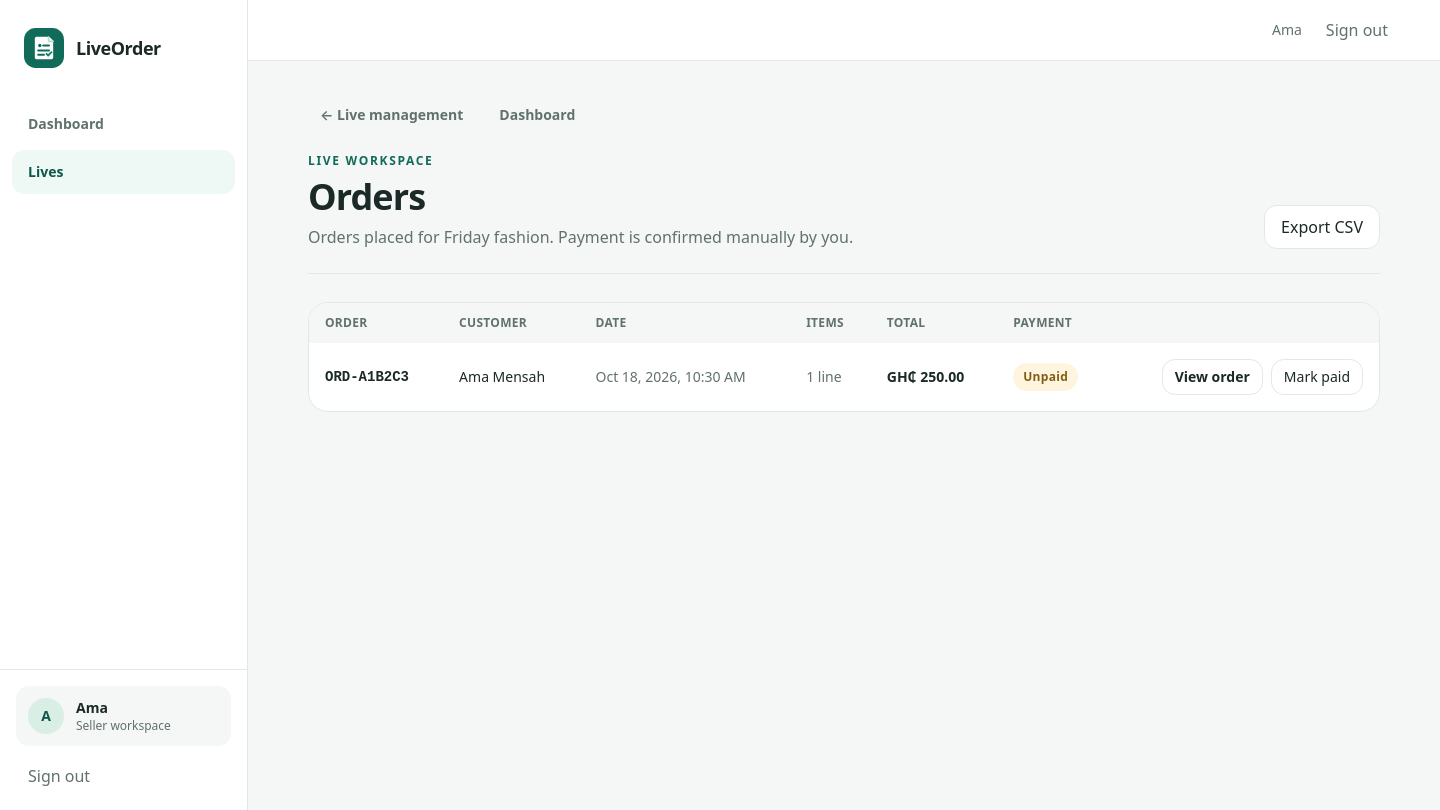
Test: seller order management › shows export failure feedback
Click the button "Export CSV" at (1322, 227), box [1264,205,1380,249]
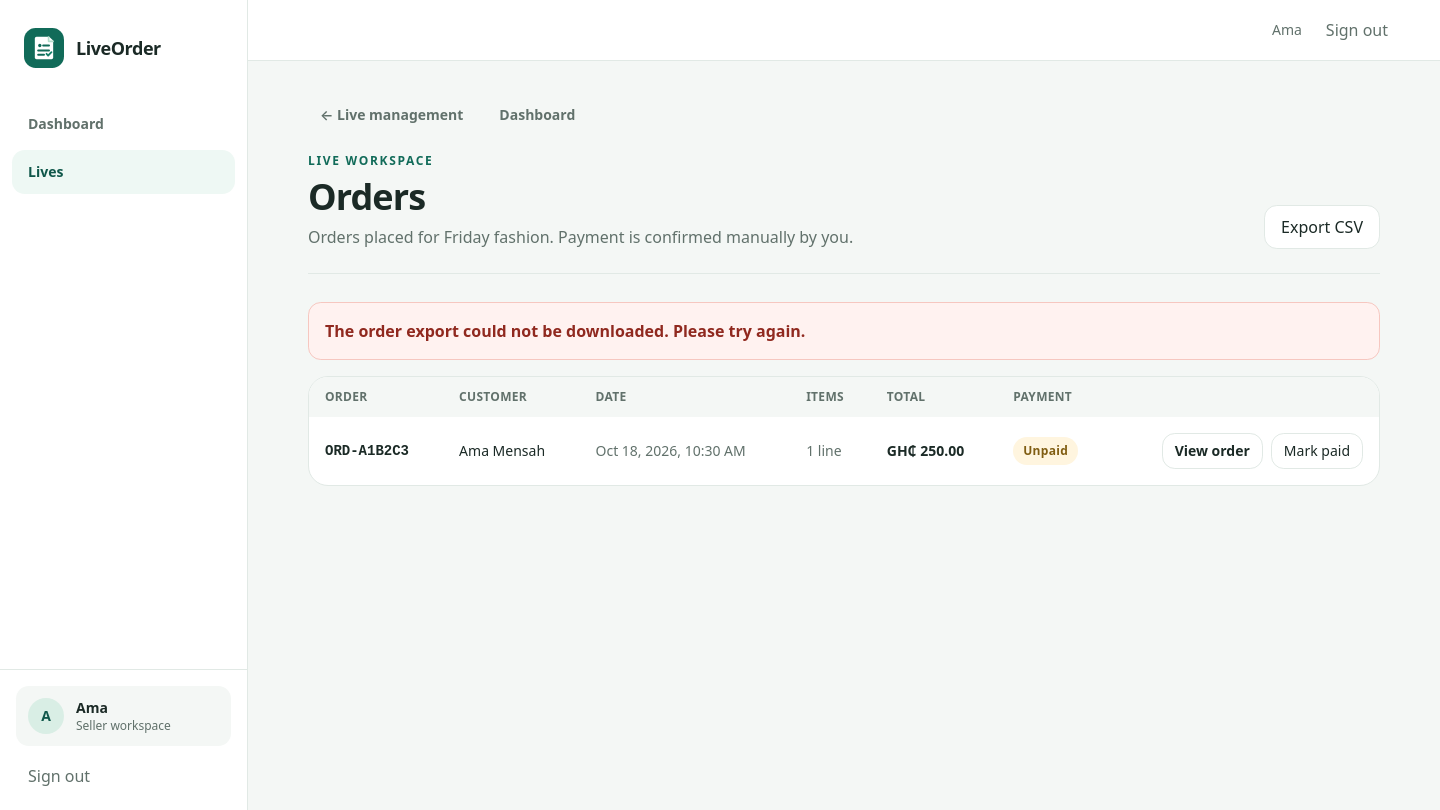
Check: the text "The order export could not be downloaded. Please try again." is shown, box [325,320,805,342]
